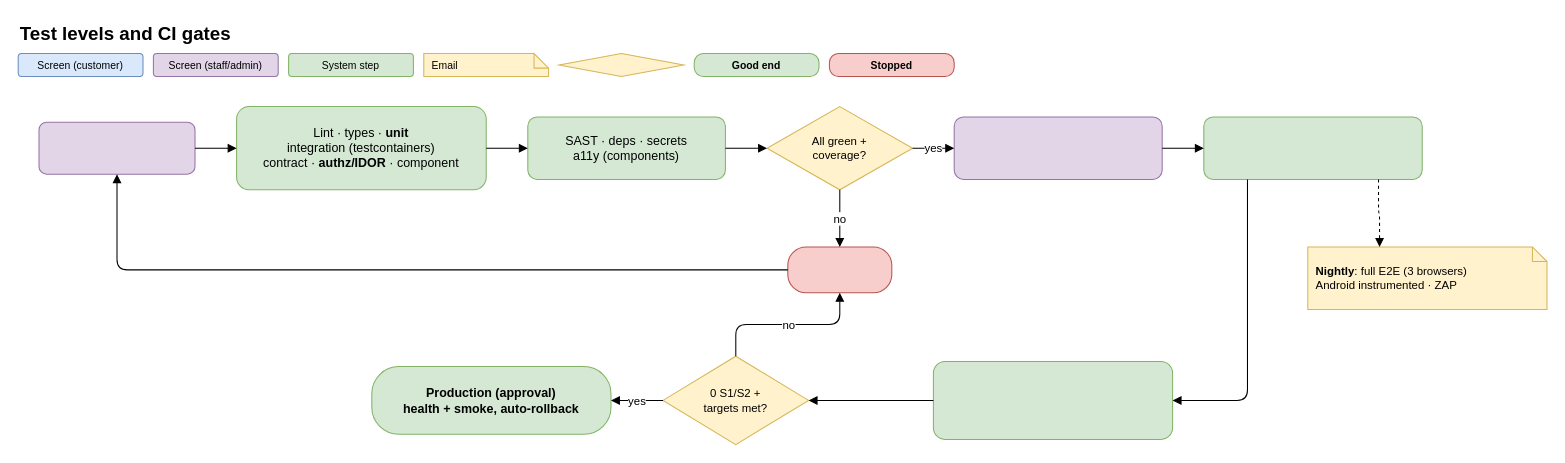
Some shapes in this 1565 by 463 pixel diagram are drawn without their labels. Each missing label, with the box of its shape:
Decision: (558, 53, 684, 76)
Deploy staging E2E smoke J-01/02/03/09: (1203, 116, 1422, 179)
Fix: (787, 246, 892, 293)
Merge to main build · Trivy · cosign: (953, 116, 1162, 179)
Pull request: (38, 121, 195, 174)
Release candidate regression · k6 · resilience manual a11y · UAT: (932, 360, 1173, 439)
